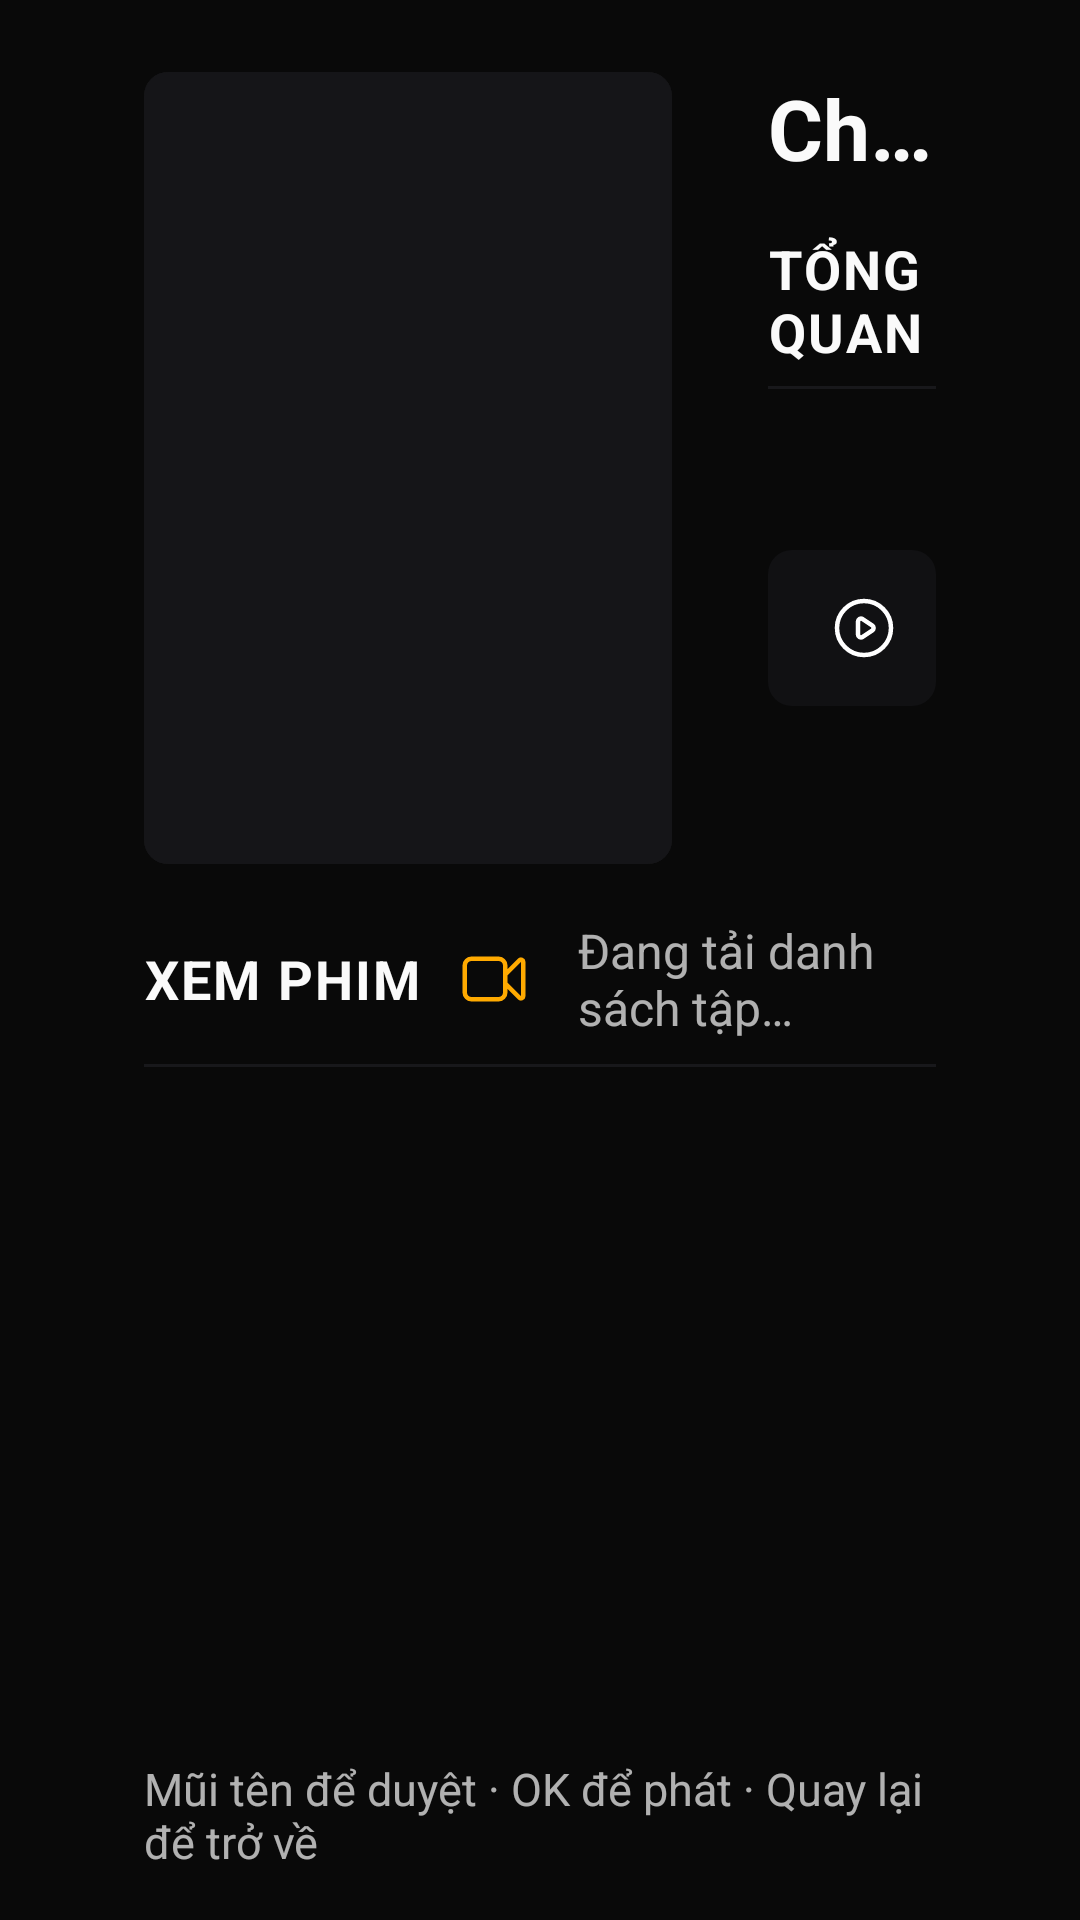

Icon bounding boxes for this 1080px×1920px phone screenshot, format (x1, y1, x2, y2):
camera: (462, 956, 526, 1002)
